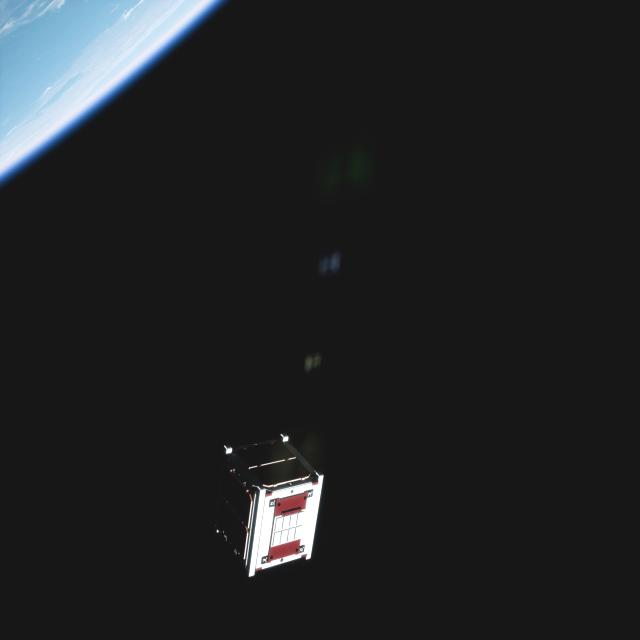satellite: (186, 423, 329, 589)
